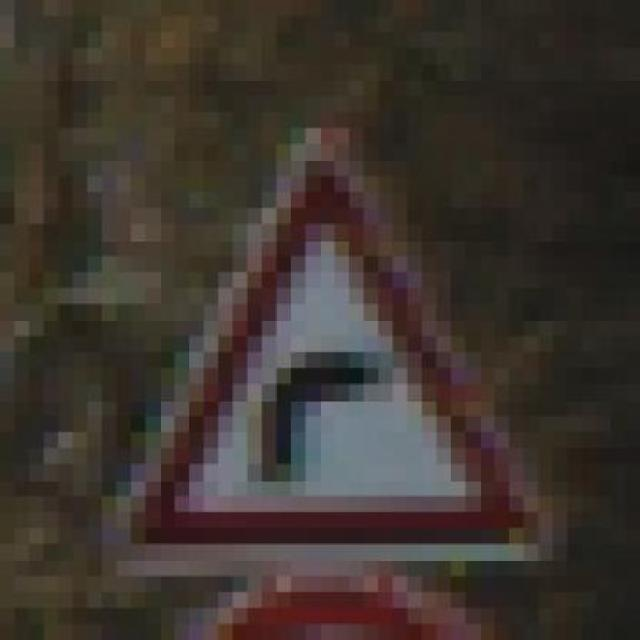Dangerous Rright Curve Ahead: (101, 112, 538, 560)
